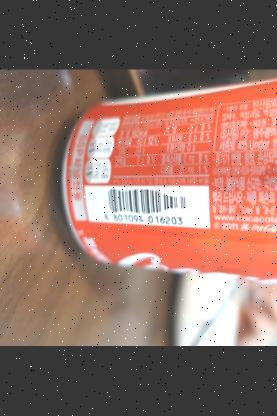Can: (59, 70, 277, 297)
